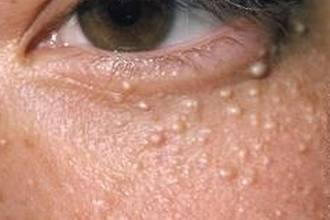milium: (129, 89, 202, 153), (219, 138, 277, 189), (219, 79, 268, 133), (1, 130, 20, 165), (288, 18, 316, 41)
